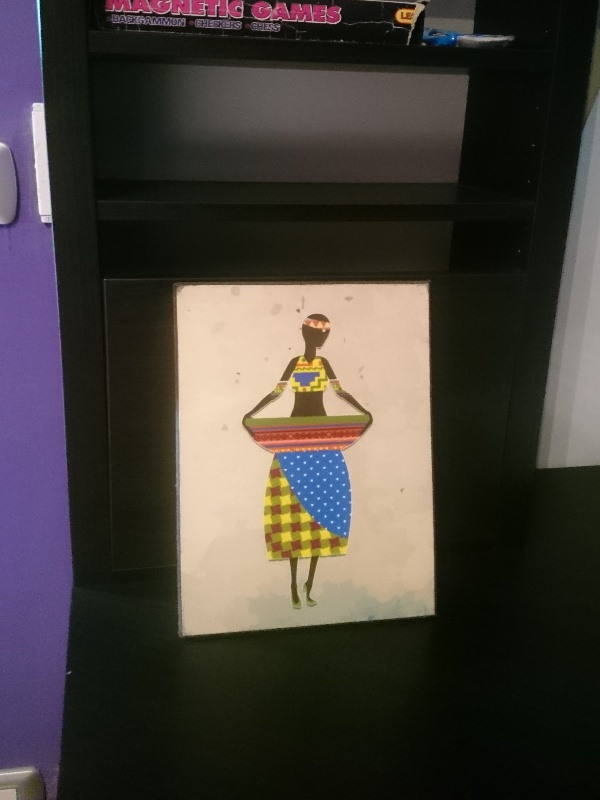my image: (179, 284, 436, 633)
